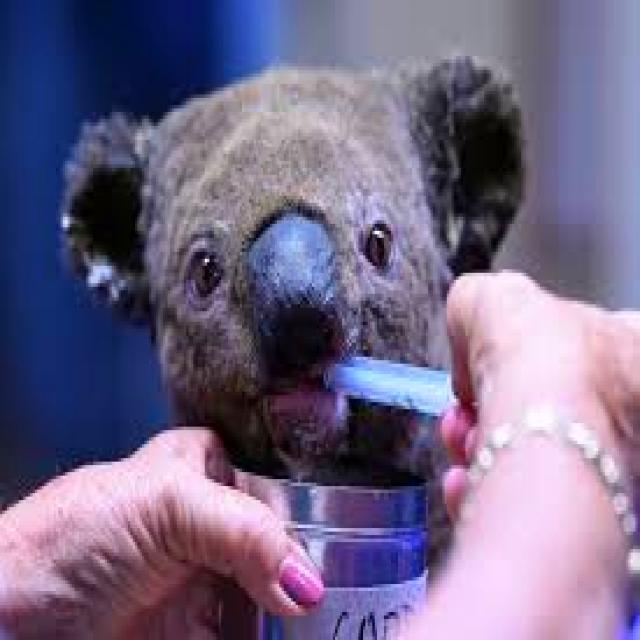koala: (63, 56, 524, 549)
